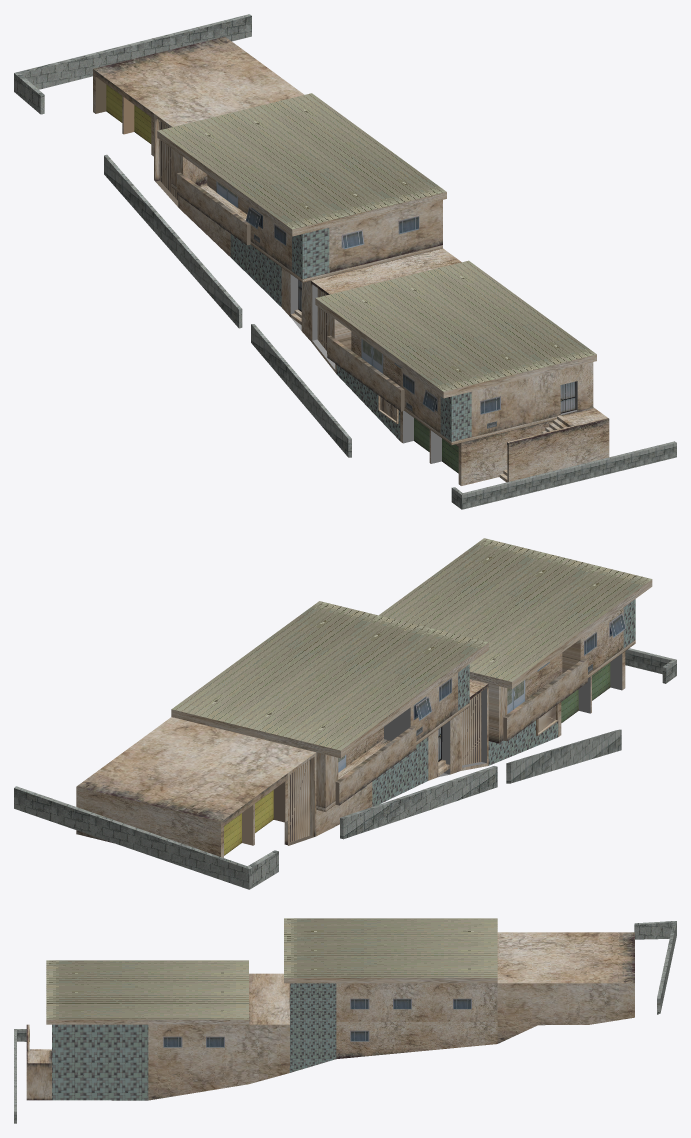
File: coast_apts.obj
3 renders of one model, top to bottom at view 1: azimuth 30°, elevation 25°; view 2: azimuth 150°, elevation 25°; view 3: azimuth 270°, elevation 25°, orthographic. The views are drawn at different scales.
Visible parts, largest first — view 1: coast_apts; view 2: coast_apts; view 3: coast_apts.
Boxes of the visible parts, x1,y1,x2,y2 form: coast_apts: [14, 14, 676, 509]; coast_apts: [14, 538, 676, 889]; coast_apts: [14, 918, 676, 1123].
Bounding box in the file's own units: 20.18 × 12.21 × 59.34.
